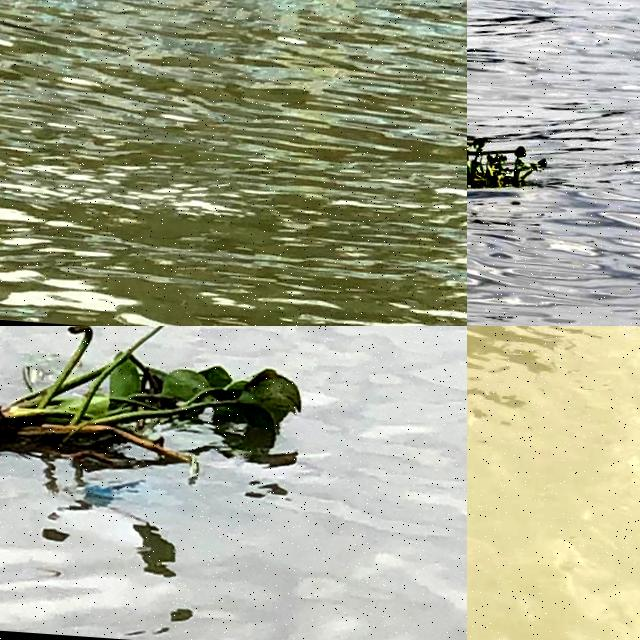water-hyacinth: (1, 327, 308, 488), (468, 127, 541, 197)
